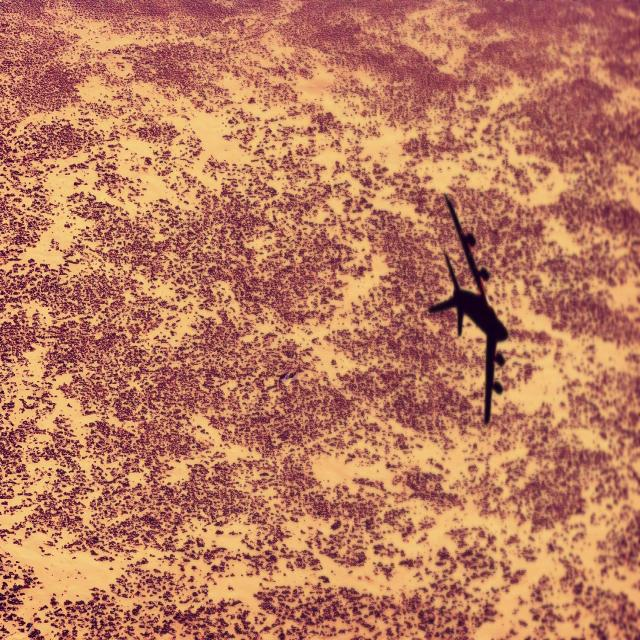airplane: (428, 193, 508, 424)
